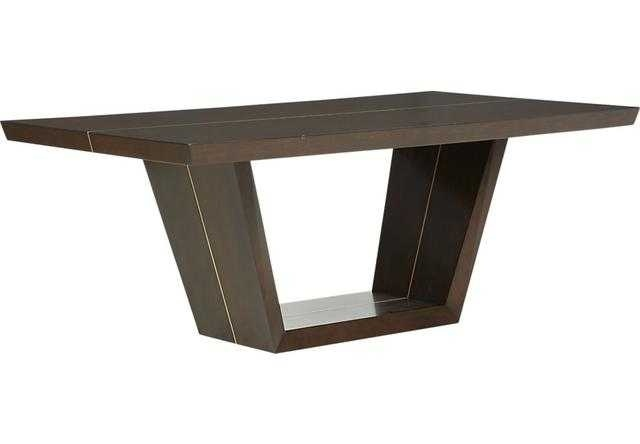obstacle: (2, 92, 637, 351)
